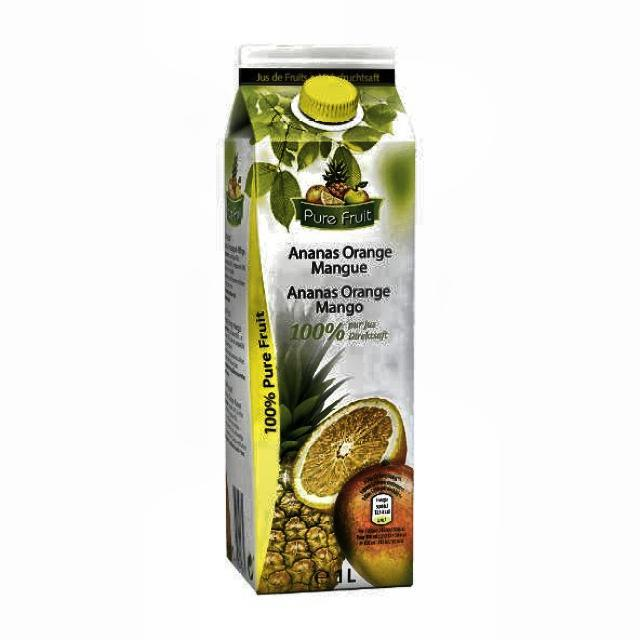cardboard: (222, 46, 416, 594)
